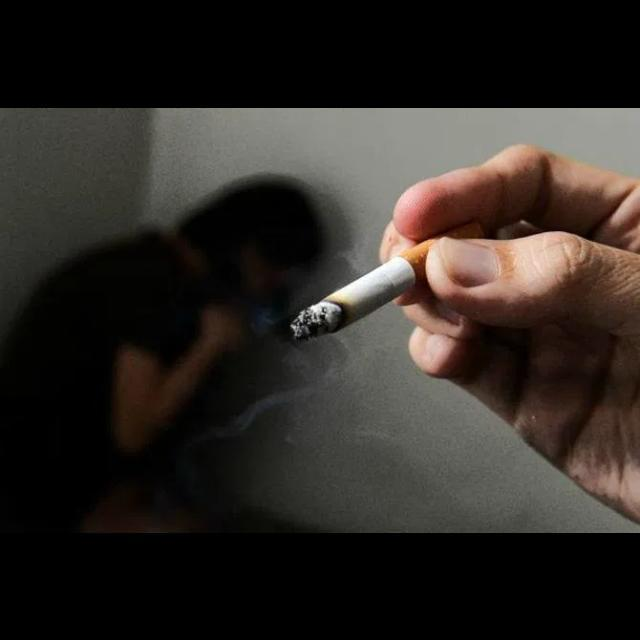rokok: (280, 224, 440, 350)
